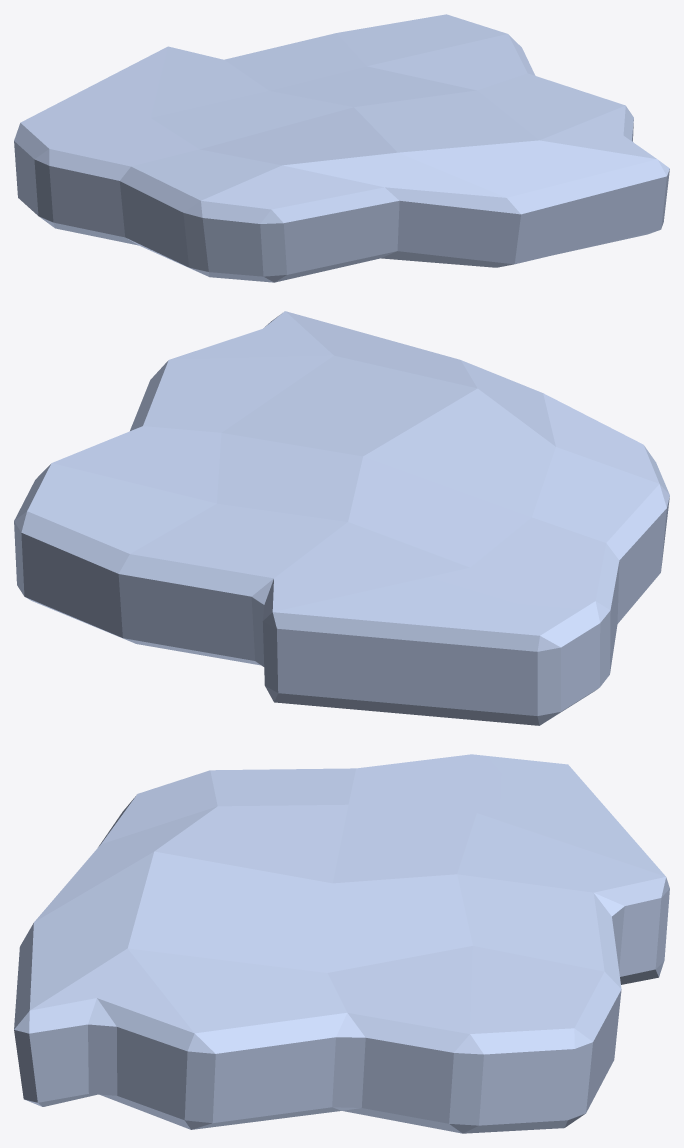
File: floe_ind_8.fbx
3 renders of one model, top to bottom at view 1: azimuth 30°, elevation 25°; view 2: azimuth 150°, elevation 25°; view 3: azimuth 270°, elevation 25°, orthographic. The views are drawn at different scales.
Parts seen in each view (by area): view 1: Plane.024; view 2: Plane.024; view 3: Plane.024.
Part boxes in pixels (x1=…): Plane.024: x1=14, y1=14, x2=669, y2=282; Plane.024: x1=14, y1=311, x2=669, y2=725; Plane.024: x1=14, y1=754, x2=669, y2=1133.
Bounding box in the file's own units: 368 × 84.31 × 339.
